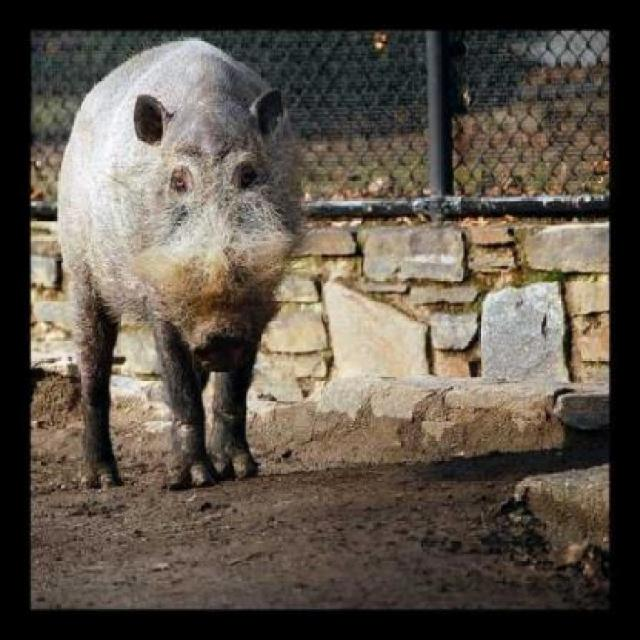pig: (36, 8, 388, 484)
